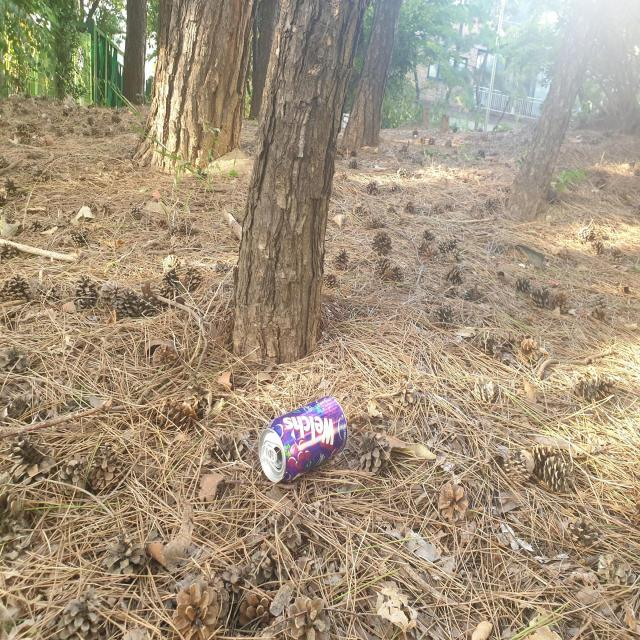can: (258, 396, 348, 483)
